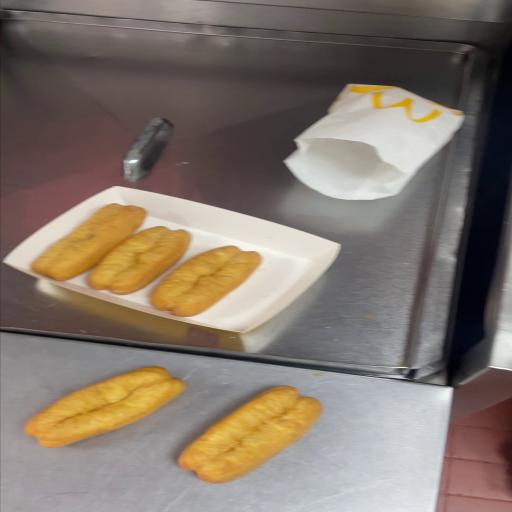brand_golden_good: (31, 203, 192, 295), (178, 386, 322, 483), (24, 367, 185, 448), (150, 246, 262, 317)
